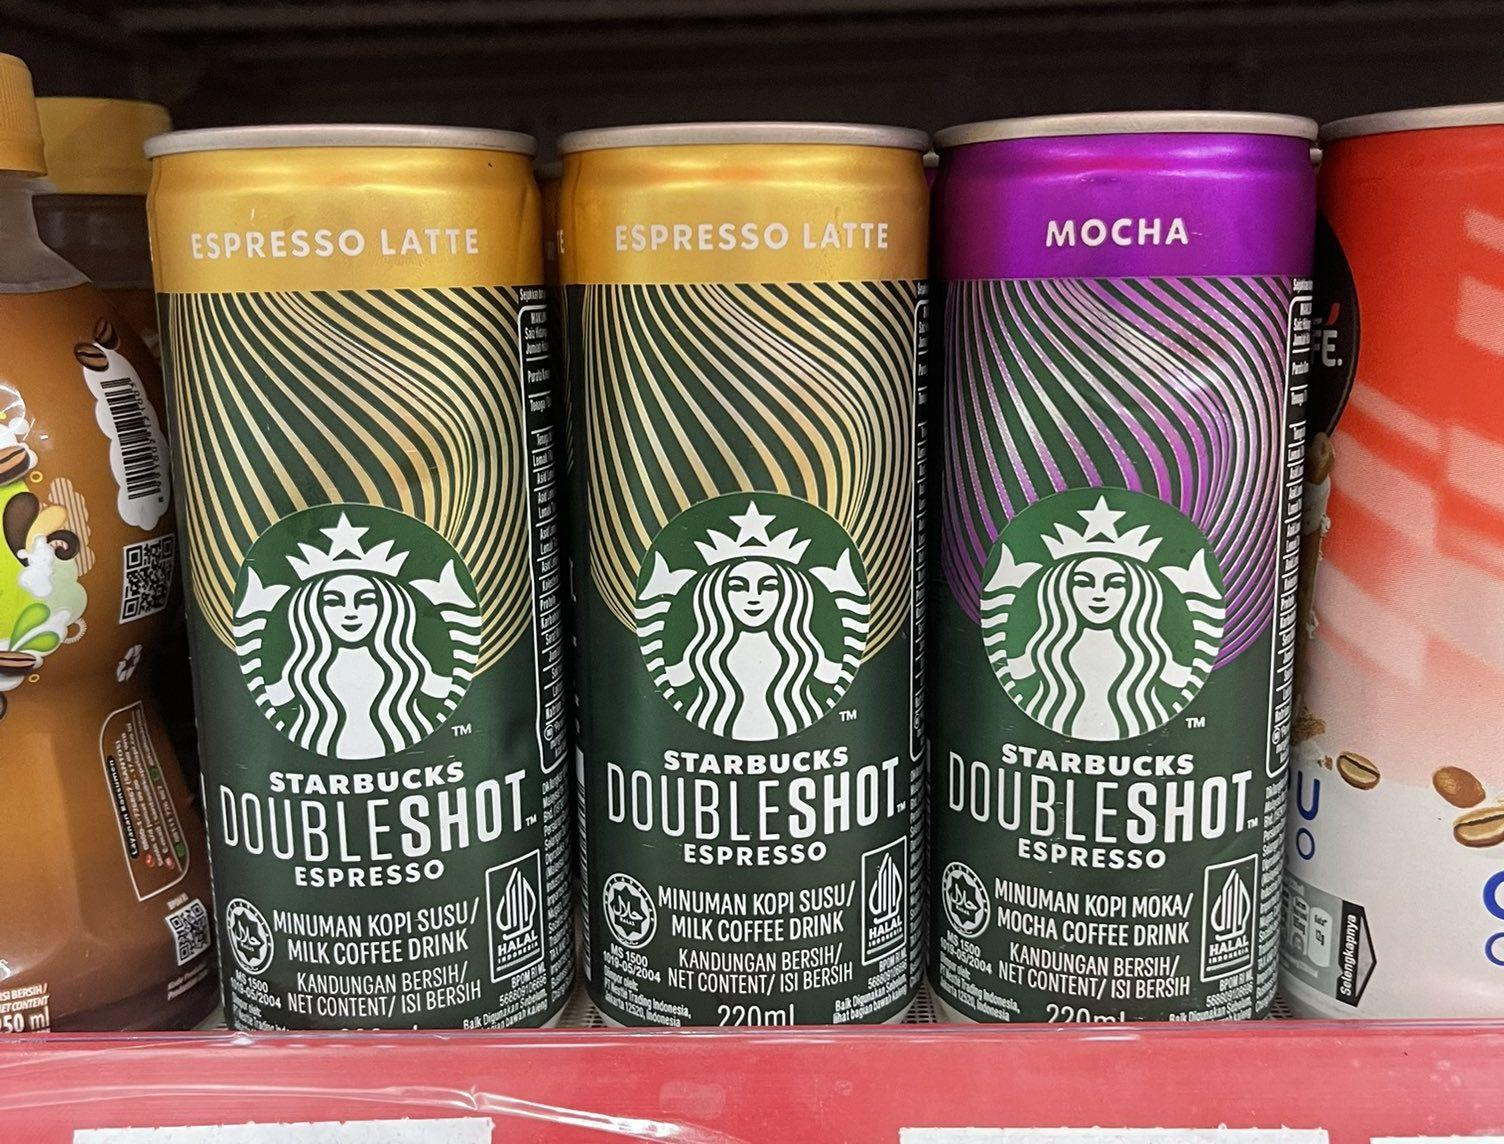metal: (136, 118, 572, 1032), (942, 108, 1314, 1026), (554, 94, 918, 1020), (1287, 82, 1504, 1027)
